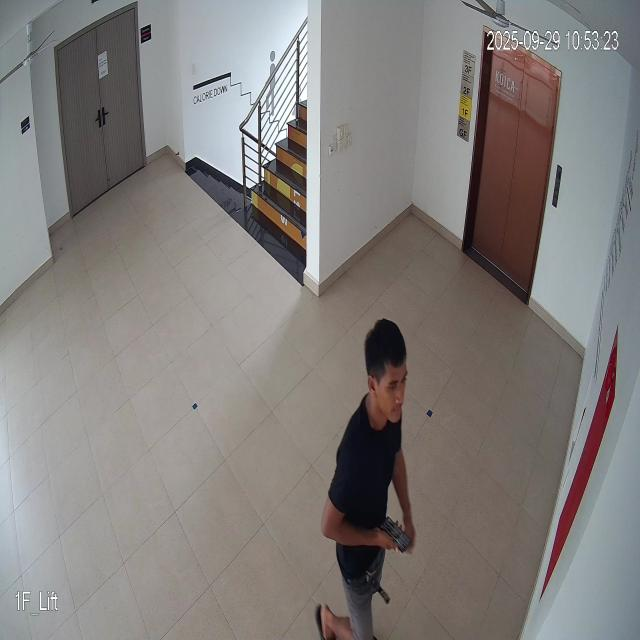face: (358, 310, 412, 427)
